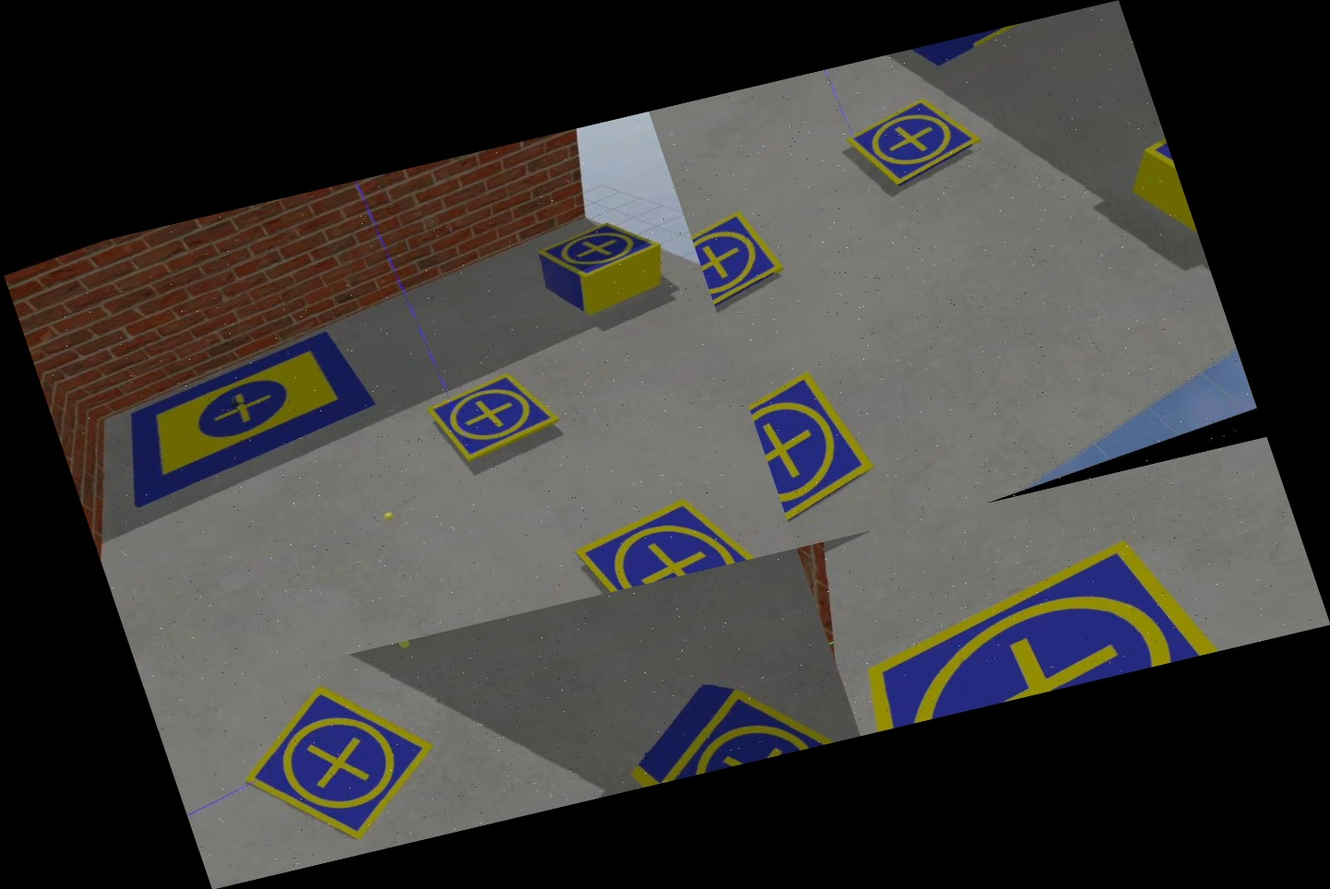large_base: (83, 324, 398, 510), (837, 7, 1098, 97)
small_base: (817, 513, 1262, 735), (211, 655, 469, 871), (613, 654, 861, 787), (742, 359, 897, 535), (564, 477, 770, 597), (839, 87, 993, 198), (421, 362, 570, 468), (687, 205, 795, 314), (533, 208, 670, 292)
